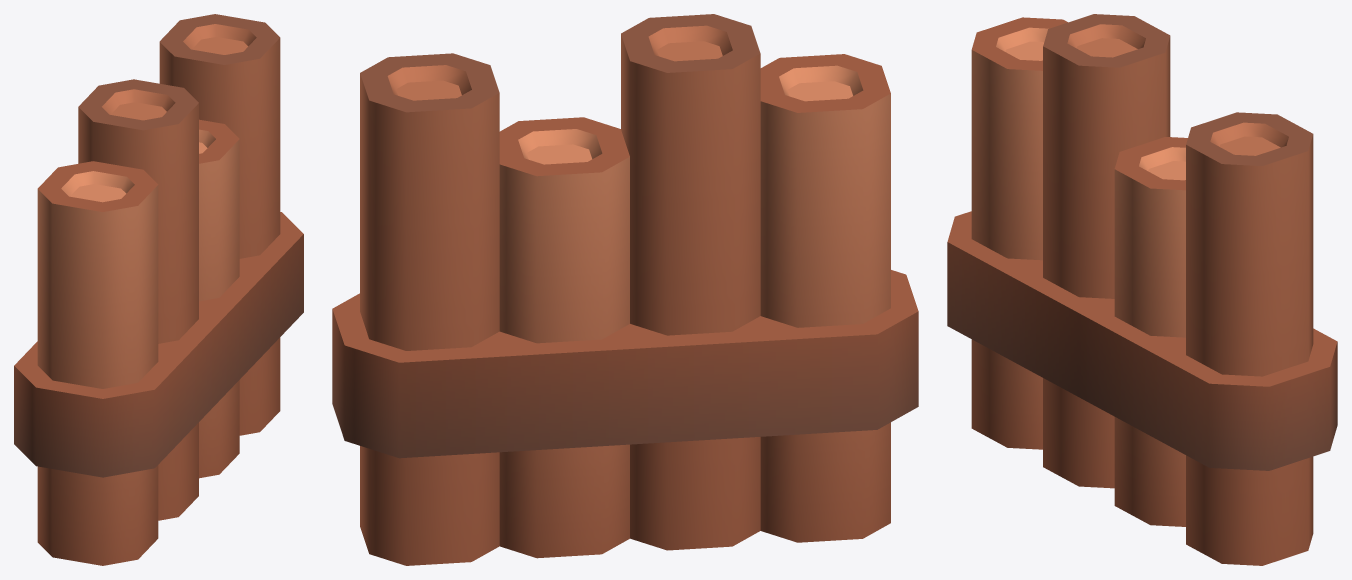
File: n5_n5_poles_lev5.013.glb
The picture shows the model from 3 angles, left to right: view 1: azimuth 30°, elevation 25°; view 2: azimuth 150°, elevation 25°; view 3: azimuth 270°, elevation 25°; orthographic projection. The views are drawn at different scales.
Visible parts, largest first — view 1: n5_n5_poles_lev5.013; view 2: n5_n5_poles_lev5.013; view 3: n5_n5_poles_lev5.013.
Part boxes in pixels (x1,y1,x2,y2): n5_n5_poles_lev5.013: (14,14,303,565); n5_n5_poles_lev5.013: (332,14,918,565); n5_n5_poles_lev5.013: (947,14,1337,565).
Size of the model in its own units: 4.81 by 4.96 by 4.16.
1 material, 1 textured.
